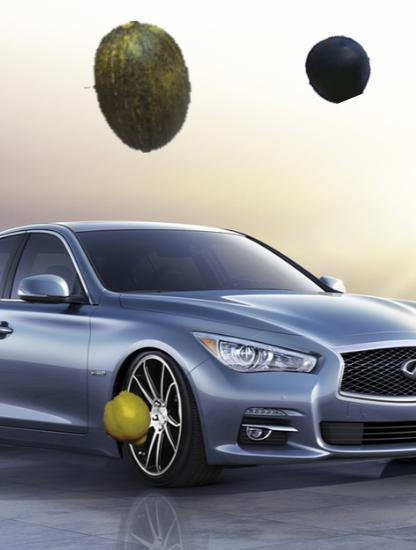Grape: (305, 35, 371, 101)
Melon: (71, 21, 204, 154)
Quince: (99, 391, 157, 449)
